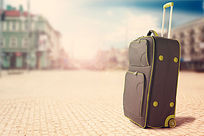suitcase: (120, 1, 180, 127)
